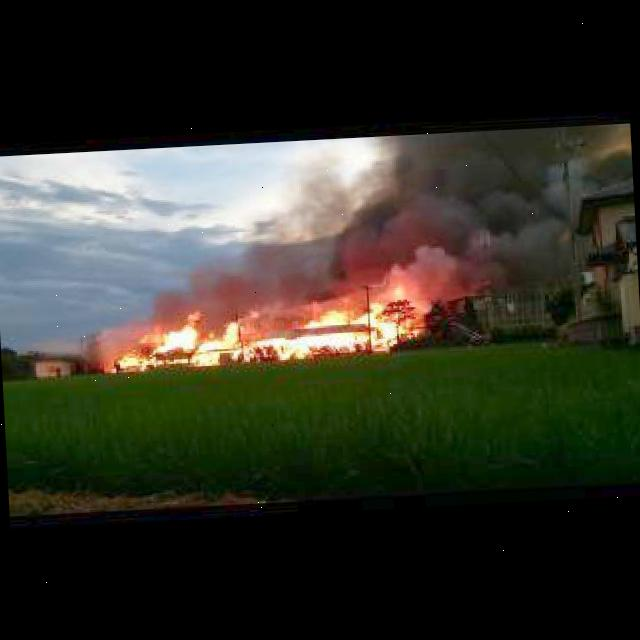fire: (151, 131, 497, 316), (101, 287, 420, 371)
